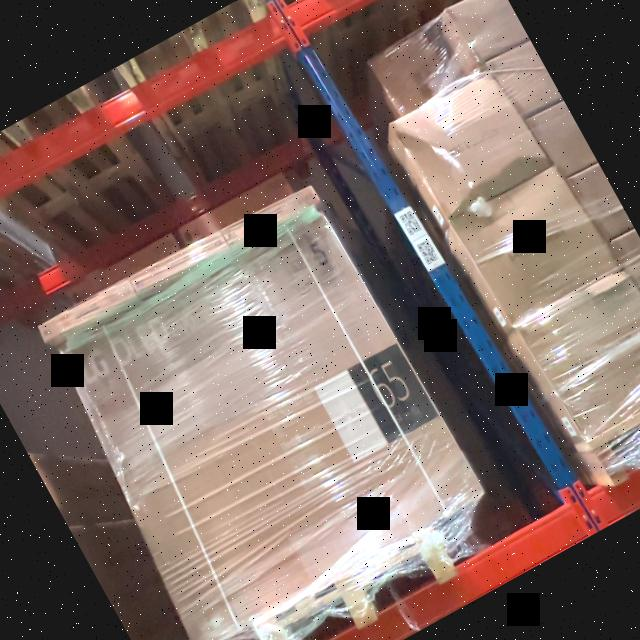box: (72, 218, 471, 624), (454, 166, 613, 324), (392, 68, 546, 222), (520, 270, 640, 442), (368, 23, 466, 114), (126, 226, 230, 298), (41, 274, 142, 346), (222, 178, 322, 248), (493, 44, 561, 118), (449, 0, 526, 64), (532, 103, 596, 177), (574, 166, 634, 240), (612, 230, 640, 310)
